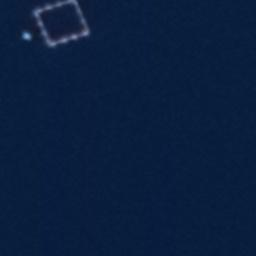square_solid: (29, 1, 96, 50)
